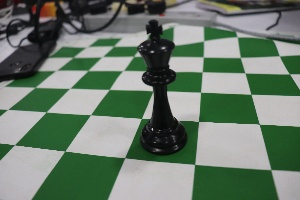black_king: (119, 12, 196, 159)
